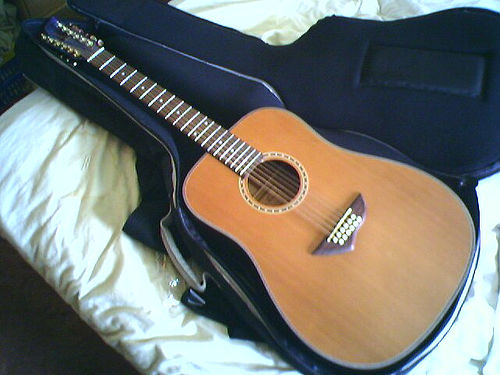guitar: (34, 14, 478, 370)
